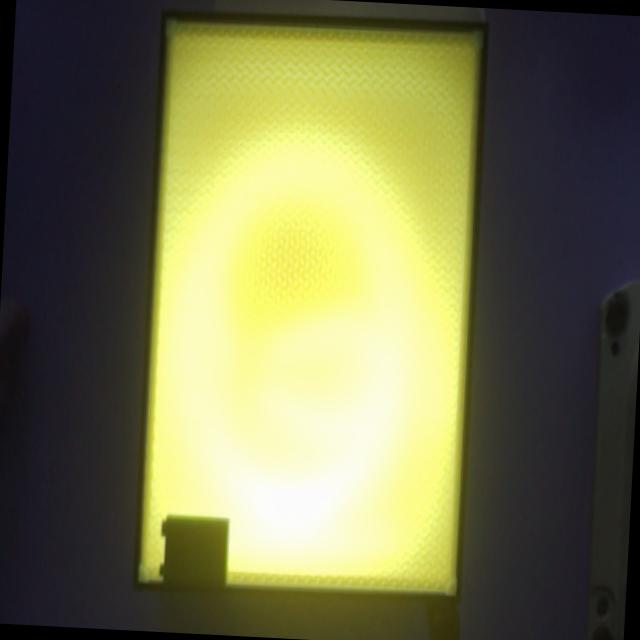bateria: (159, 516, 229, 588)
mesa: (133, 9, 490, 607)
